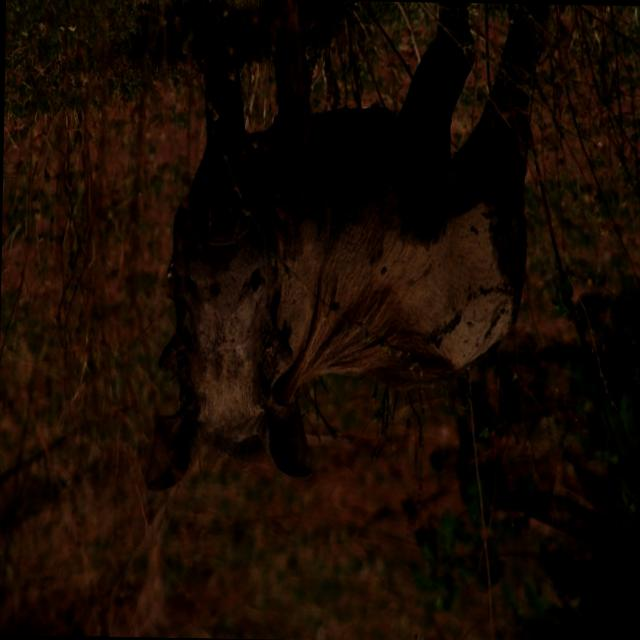pig: (145, 1, 548, 491)
